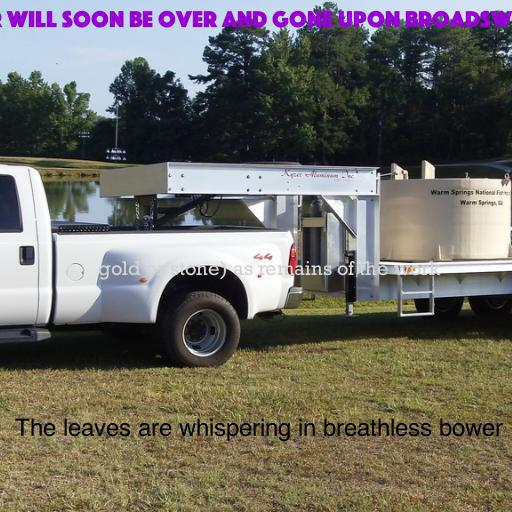Apple Chancery: (15, 418, 503, 442)
Phosphate: (0, 10, 512, 28)
Rockwell: (97, 260, 441, 280)
